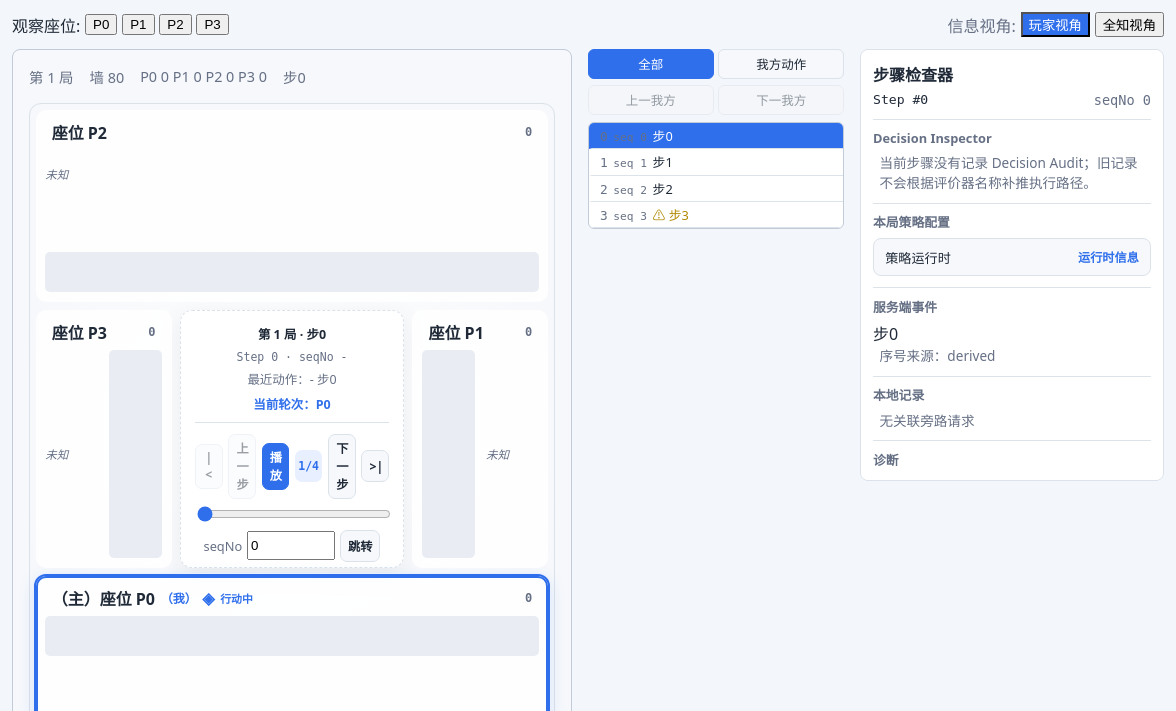
Scenario: Timeline 条目与高亮 › 点击时间线条目跳转到该步(帧墙数一致)
This screenshot has width=1176, height=711.
Click the list item with test id "tl-item-3". click: click(716, 215)
box: left=589, top=202, right=843, bottom=228
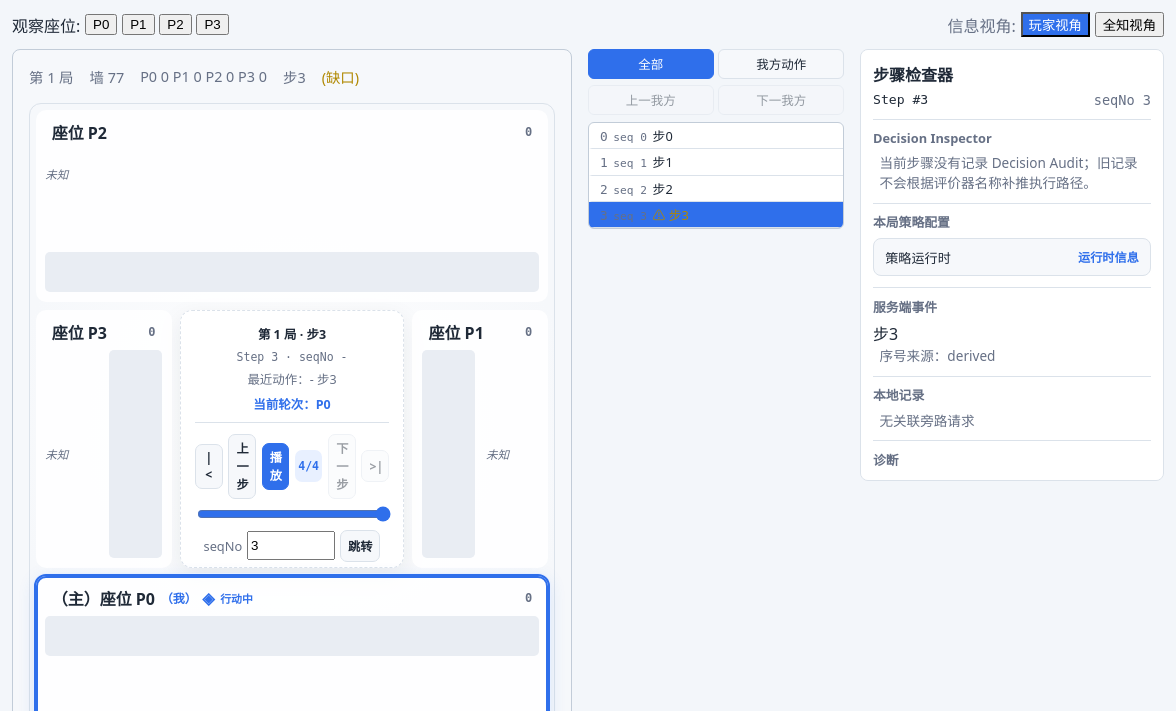
Result: the text with test id "index" reads "4/4" at left=298, top=459, right=319, bottom=473
